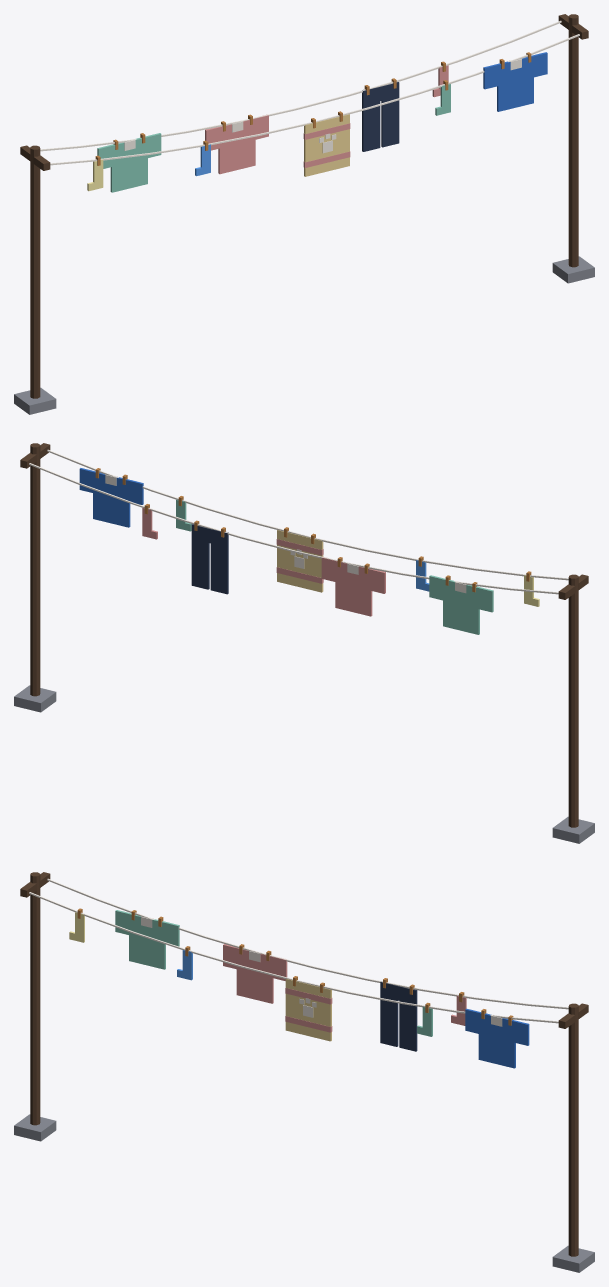
Rendered from CatCafe_Alley_LaundryLine.glb.
3 views of the same model, one above another, from view 1: azimuth 30°, elevation 25°; view 2: azimuth 150°, elevation 25°; view 3: azimuth 330°, elevation 25° (orthographic).
Visible parts, largest first — view 1: CatCafe_Alley_LaundryLine_Decor, CatCafe_Alley_LaundryLine; view 2: CatCafe_Alley_LaundryLine_Decor, CatCafe_Alley_LaundryLine; view 3: CatCafe_Alley_LaundryLine_Decor, CatCafe_Alley_LaundryLine.
Boxes of the visible parts, x1,y1,x2,y2 form: CatCafe_Alley_LaundryLine_Decor: (40,20,579,192); CatCafe_Alley_LaundryLine: (14,14,594,414); CatCafe_Alley_LaundryLine_Decor: (29,449,568,634); CatCafe_Alley_LaundryLine: (14,443,594,843); CatCafe_Alley_LaundryLine_Decor: (29,878,568,1068); CatCafe_Alley_LaundryLine: (14,872,594,1272).
Bounding box in the file's own units: 25.2 × 11 × 1.8.
Materials: 1 (1 with a texture image).
